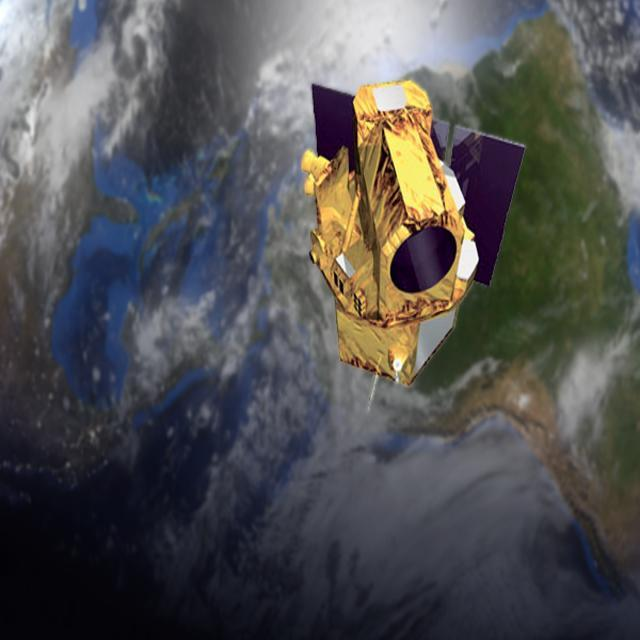sat: (302, 67, 530, 398)
